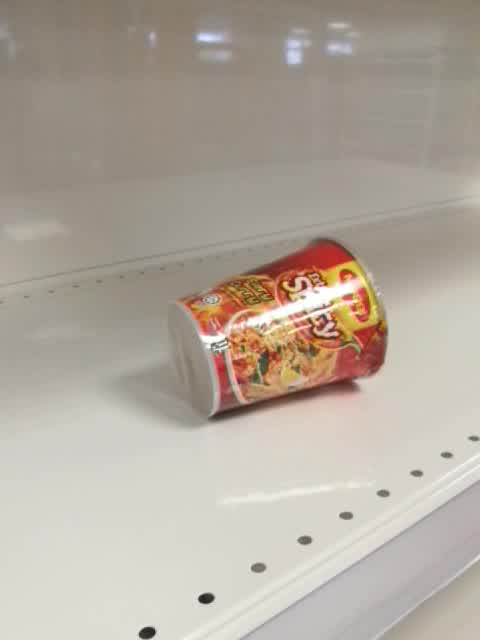maggi: (163, 235, 389, 419)
